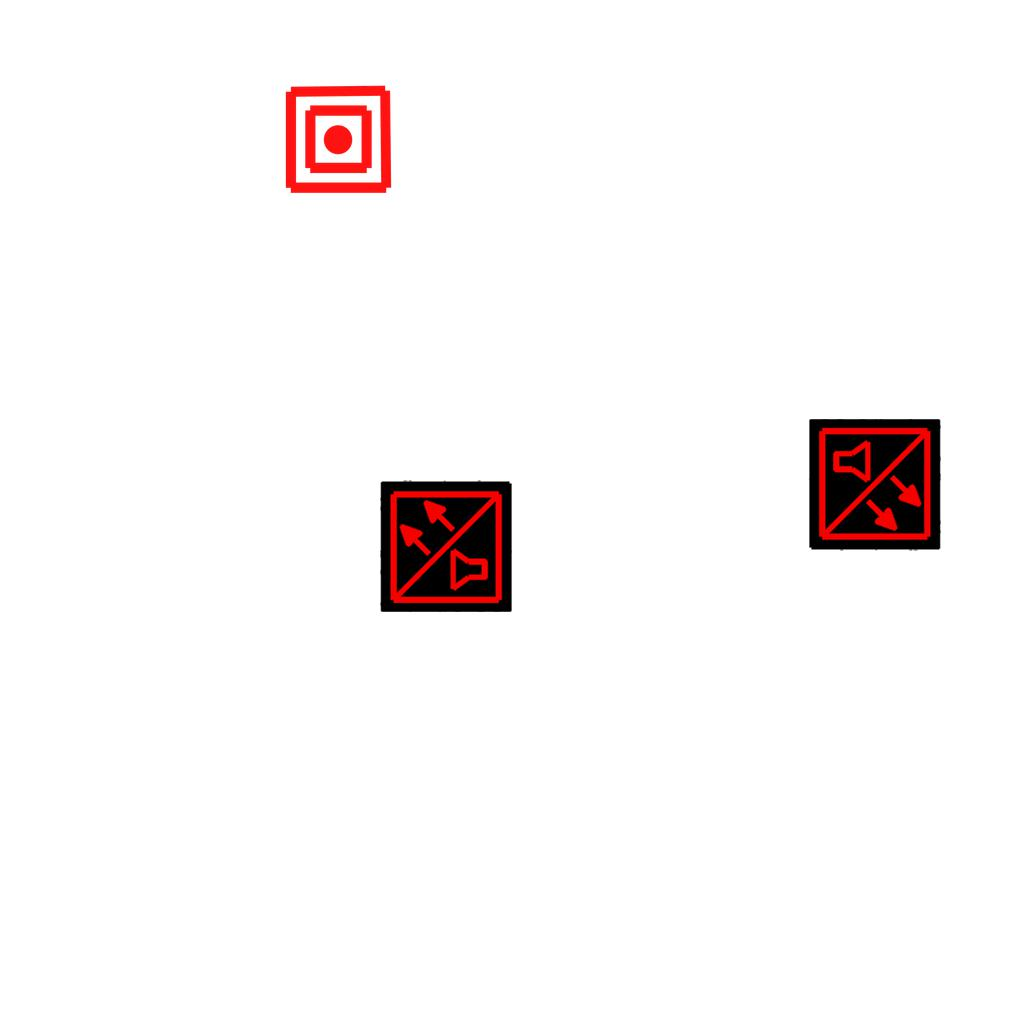NAM-Nichtautomatischer_Melder: (282, 83, 395, 196)
OKW_Multisensormelder_(Kombination_optischer_Rauch-Kahlenmonoxid_Waerme-Melder): (809, 419, 941, 551), (380, 480, 512, 612)
